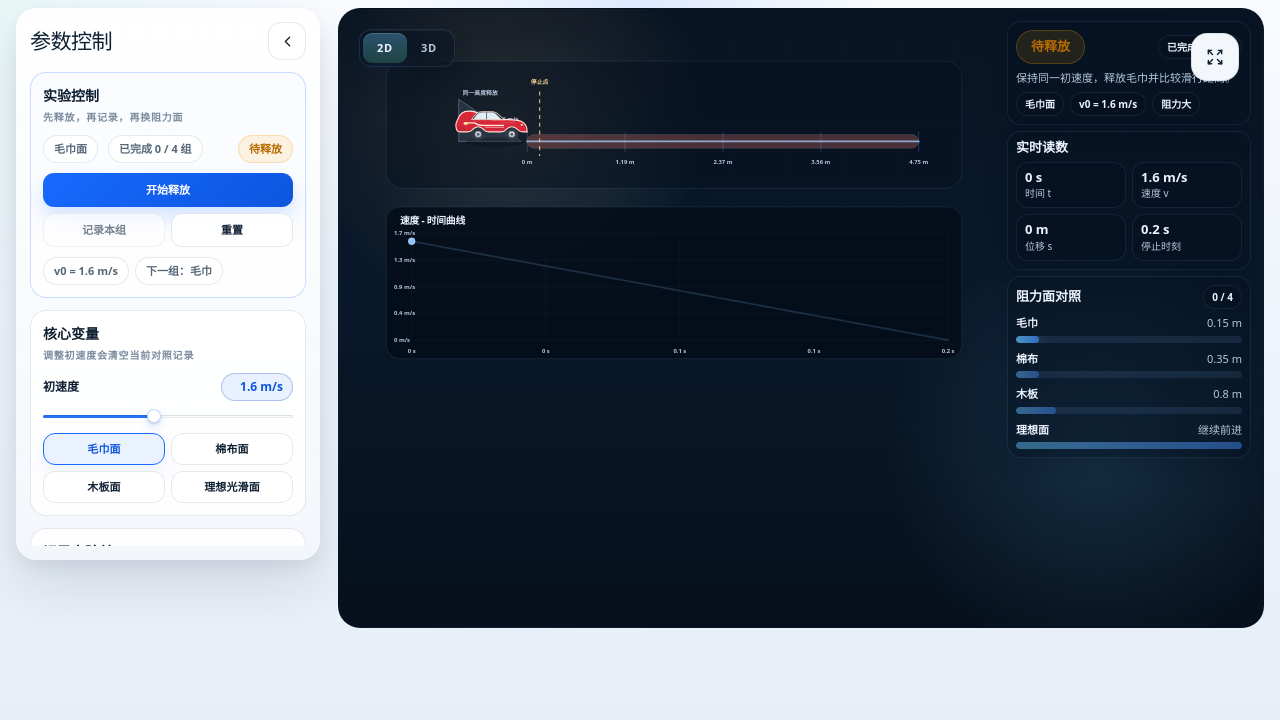
NewtonFirstLawLab › unlocks recording after the current release finishes
The image size is (1280, 720).
Click the button "开始释放".
click(168, 190)  # box [43,173,293,207]
Wait 1600 ms
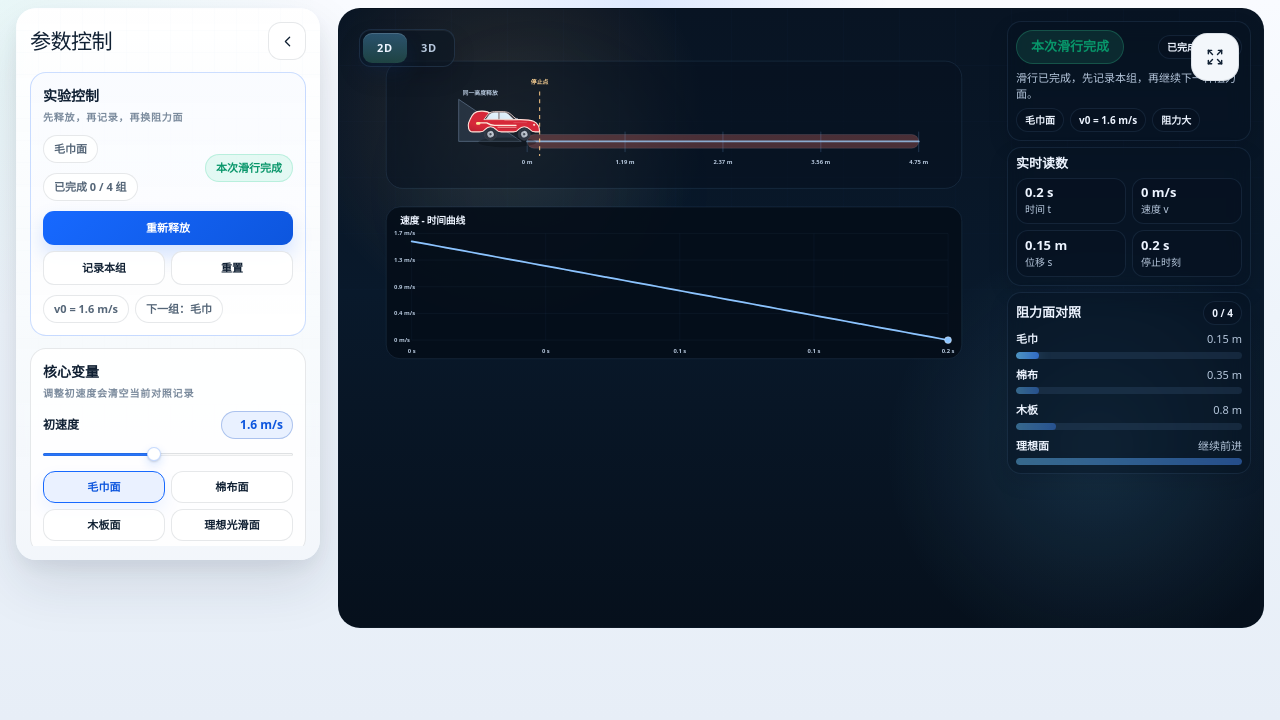
Check: the button "记录本组" is enabled, box [43,251,165,285]
Check: the text "本次滑行完成" below "先释放，再记录，再换阻力面" is shown, box [216,160,282,175]
